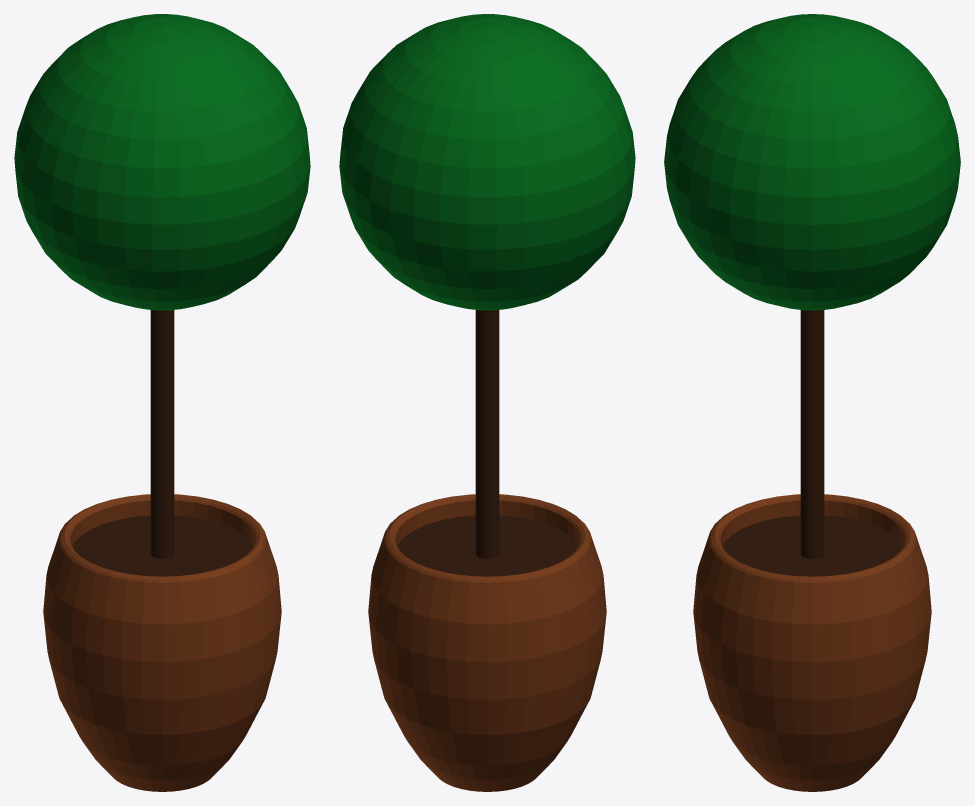
File: pot_ball_tall.glb
3 views of the same model, side by side, from view 1: azimuth 30°, elevation 25°; view 2: azimuth 150°, elevation 25°; view 3: azimuth 270°, elevation 25° (orthographic).
Parts seen in each view (by area): view 1: Cylinder; view 2: Cylinder; view 3: Cylinder.
Boxes of the visible parts, bbox=[...] form: Cylinder: bbox=[14, 14, 310, 791]; Cylinder: bbox=[339, 14, 635, 791]; Cylinder: bbox=[664, 14, 960, 791].
Size of the model in its own units: 1.4 by 3.86 by 1.4.
Materials: 3 (3 with a texture image).
